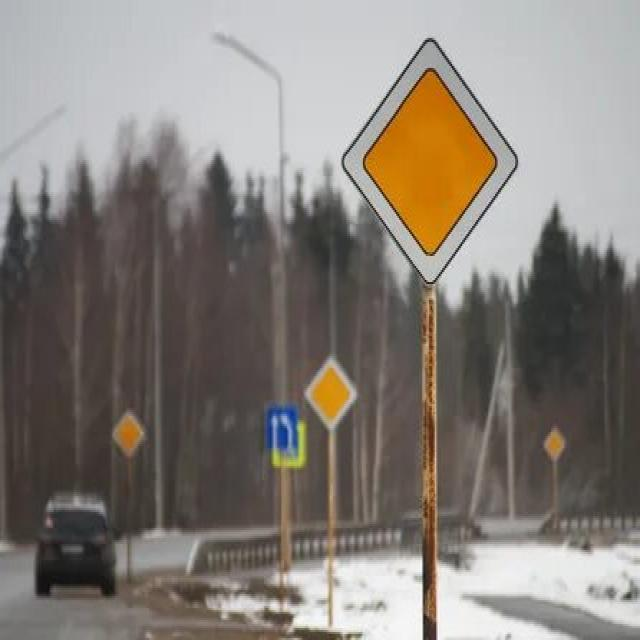signs: (341, 36, 523, 289), (302, 352, 360, 432), (110, 408, 144, 459), (543, 424, 566, 461)
